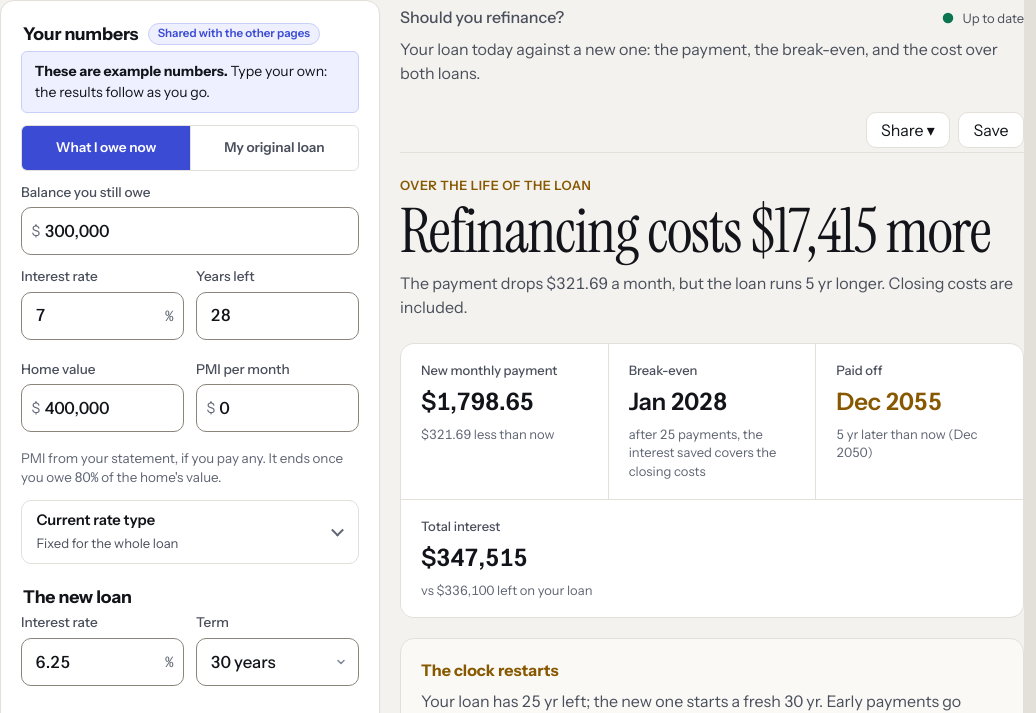
it: RefinancePageComponent › says the results are for the last valid inputs while a field is invalid, like every page
The width and height of the screenshot is (1036, 713).
Replace the text in the field with test id "new-rate" with "40": [102, 662] box [21, 638, 184, 686]
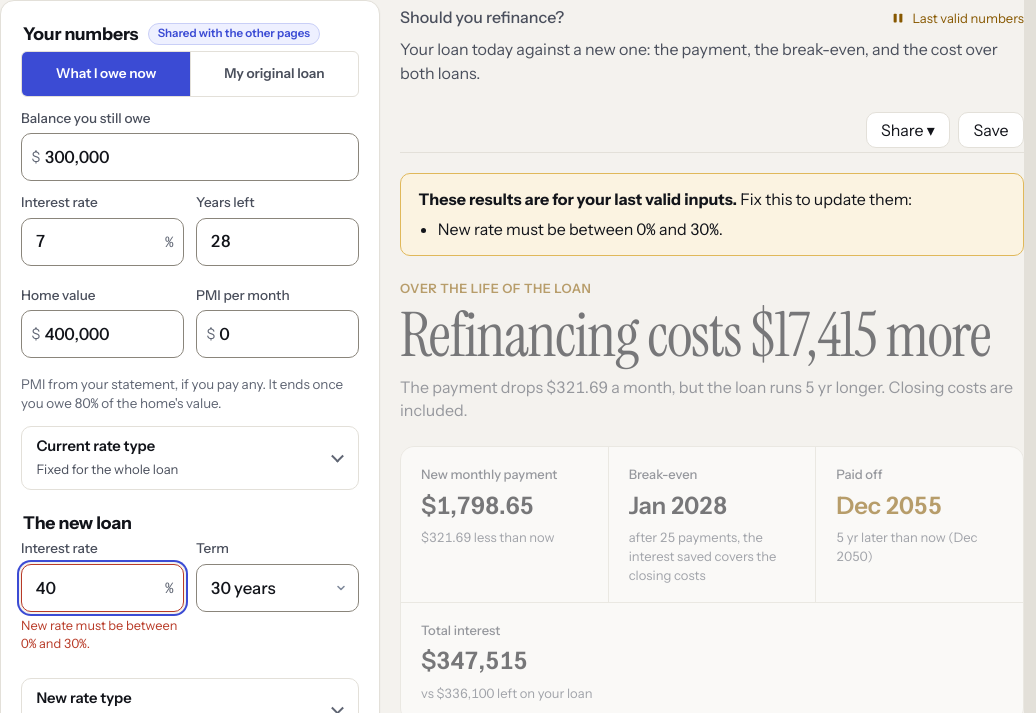
Expected: the message with test id "stale-results" shows "New rate must be between 0% and 30%.", [438, 219, 723, 239]
Expected: the text with test id "error-new-rate" reads "New rate must be between 0% and 30%.", [21, 618, 177, 651]
